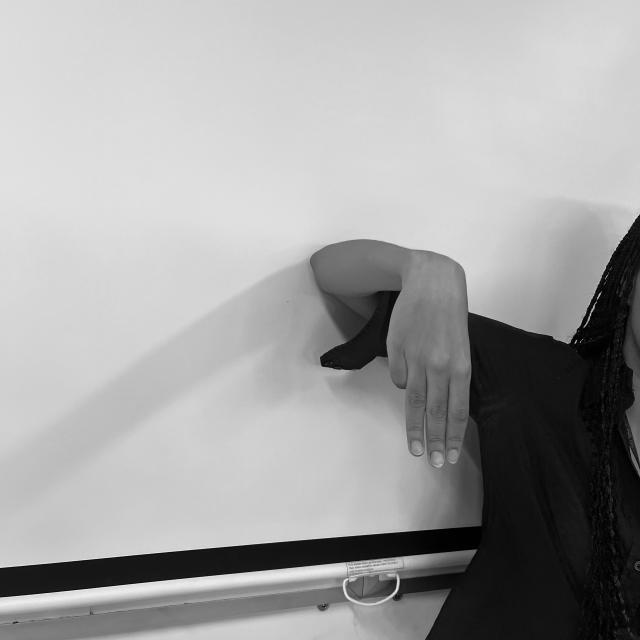Letra M: (384, 255, 475, 473)
